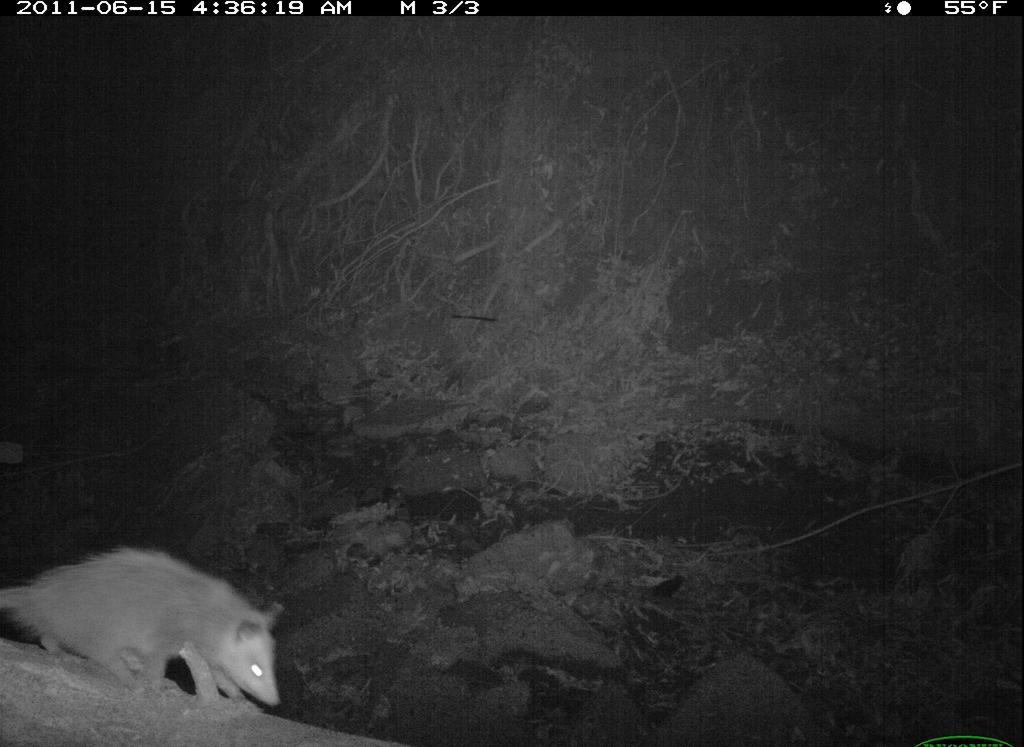opossum: (3, 533, 309, 717)
